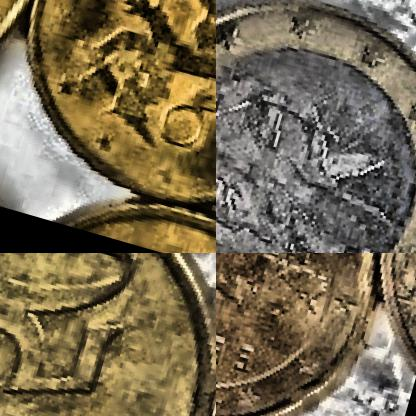coin: (0, 0, 215, 248), (216, 0, 415, 252), (0, 253, 215, 415), (216, 253, 415, 415)
